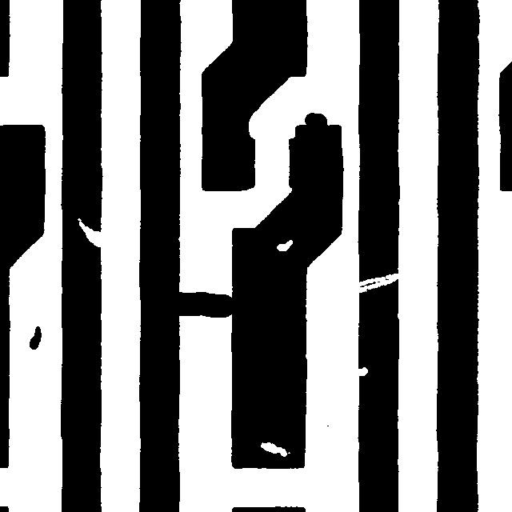copper: (22, 318, 49, 357)
mousebite: (70, 210, 114, 254), (346, 359, 375, 383)
open: (344, 266, 411, 300)
pin-hole: (269, 232, 300, 258)
short: (160, 284, 242, 325)
spur: (297, 105, 334, 138)
